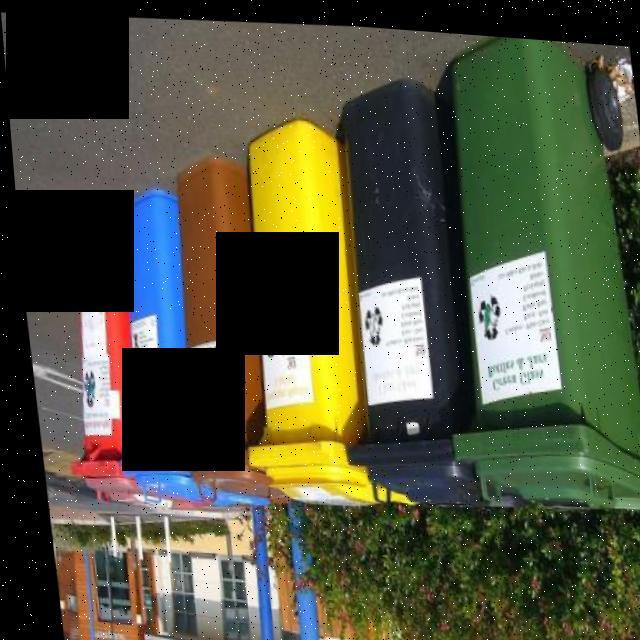bin: (419, 24, 640, 525), (320, 48, 490, 514), (223, 86, 376, 520), (151, 138, 277, 511), (31, 189, 152, 520), (101, 184, 195, 506)
